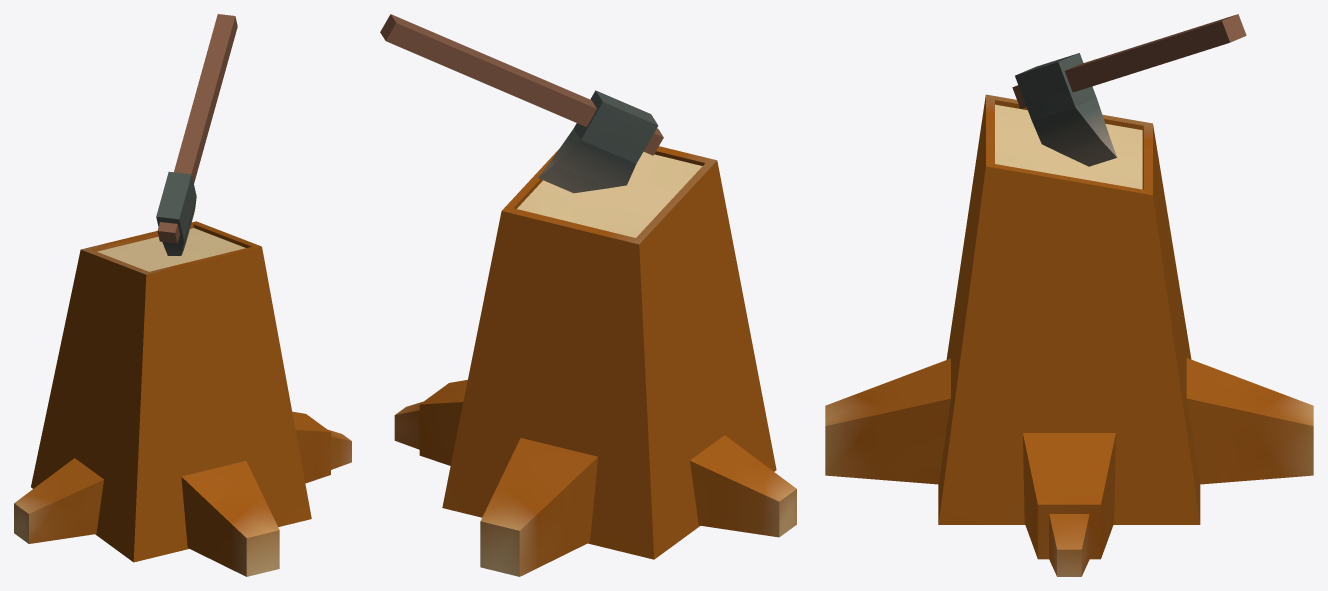
File: kit-chopping-block.glb
The picture shows the model from 3 angles, left to right: view 1: azimuth 30°, elevation 25°; view 2: azimuth 150°, elevation 25°; view 3: azimuth 270°, elevation 25°; orthographic projection. The views are drawn at different scales.
Parts seen in each view (by area): view 1: Cube.320; view 2: Cube.320; view 3: Cube.320.
Part boxes in pixels (x1=…): Cube.320: x1=14, y1=14, x2=351, y2=576; Cube.320: x1=380, y1=14, x2=796, y2=576; Cube.320: x1=825, y1=14, x2=1313, y2=576.
Bounding box in the file's own units: 0.58 × 0.7027 × 0.5917.
1 material, 1 textured.
